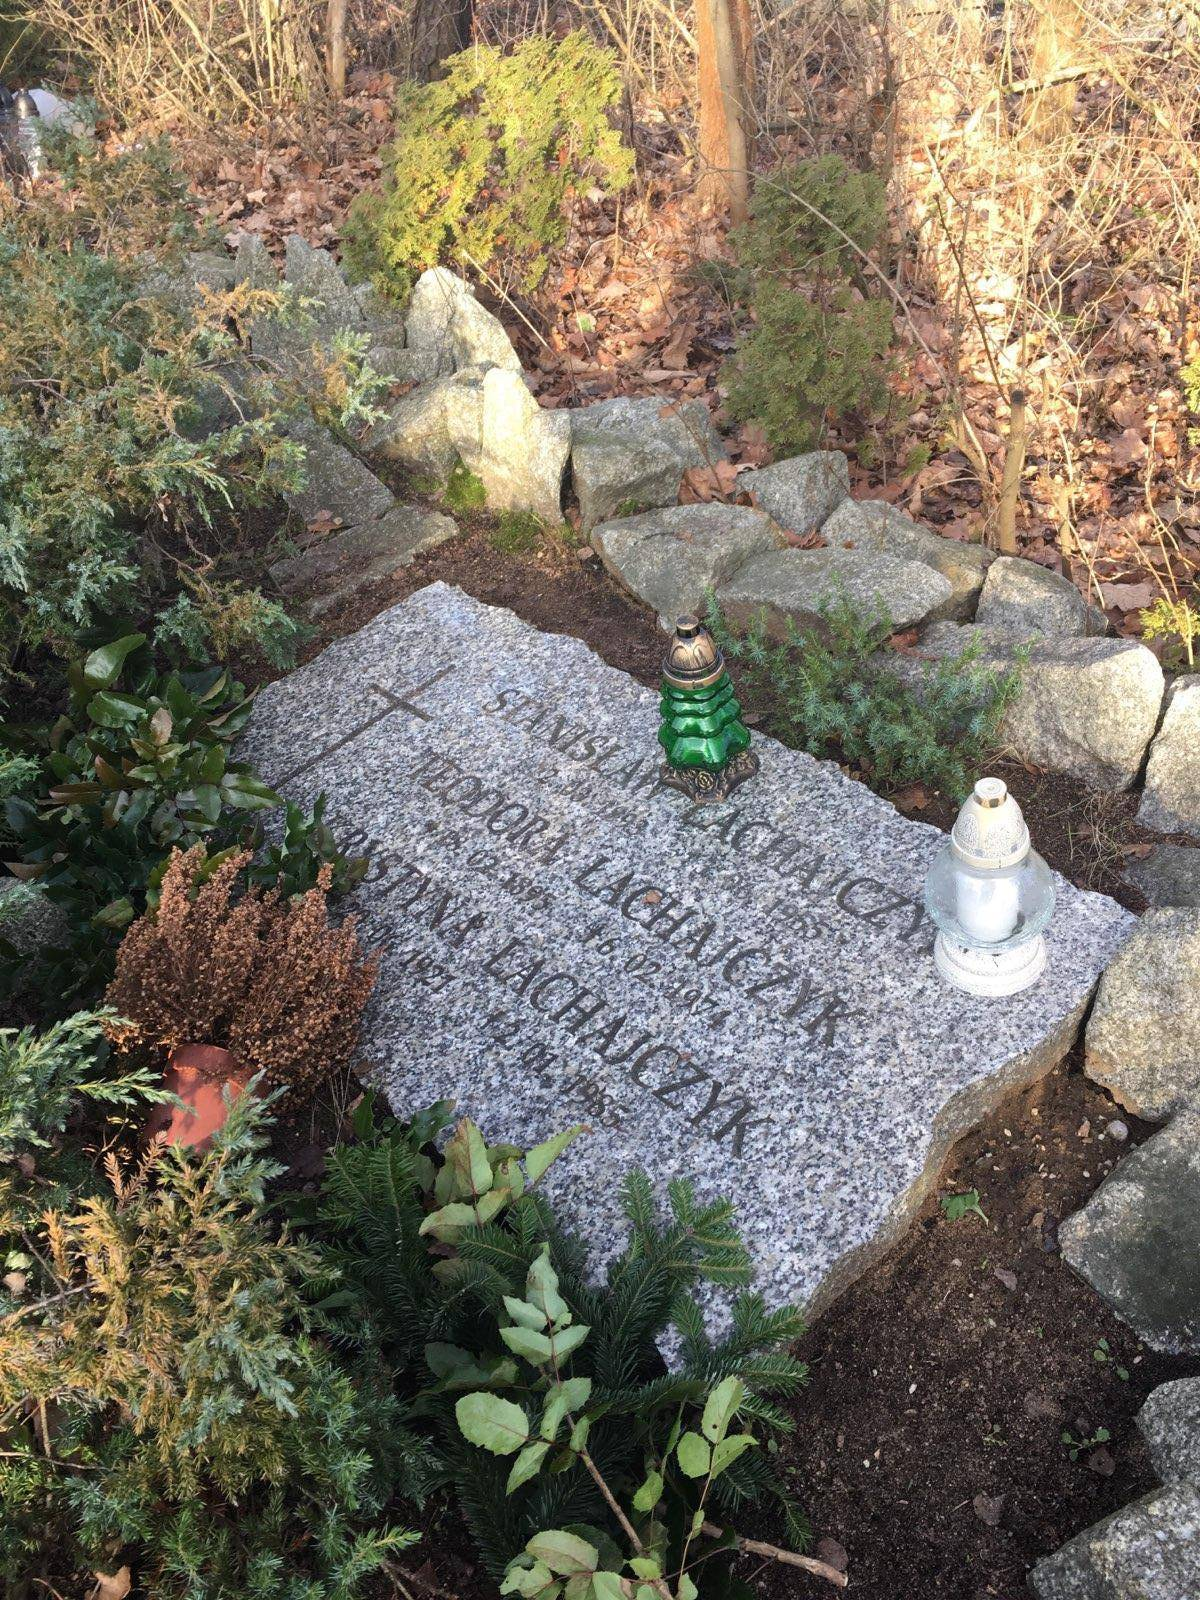flat: (87, 578, 1139, 1393)
